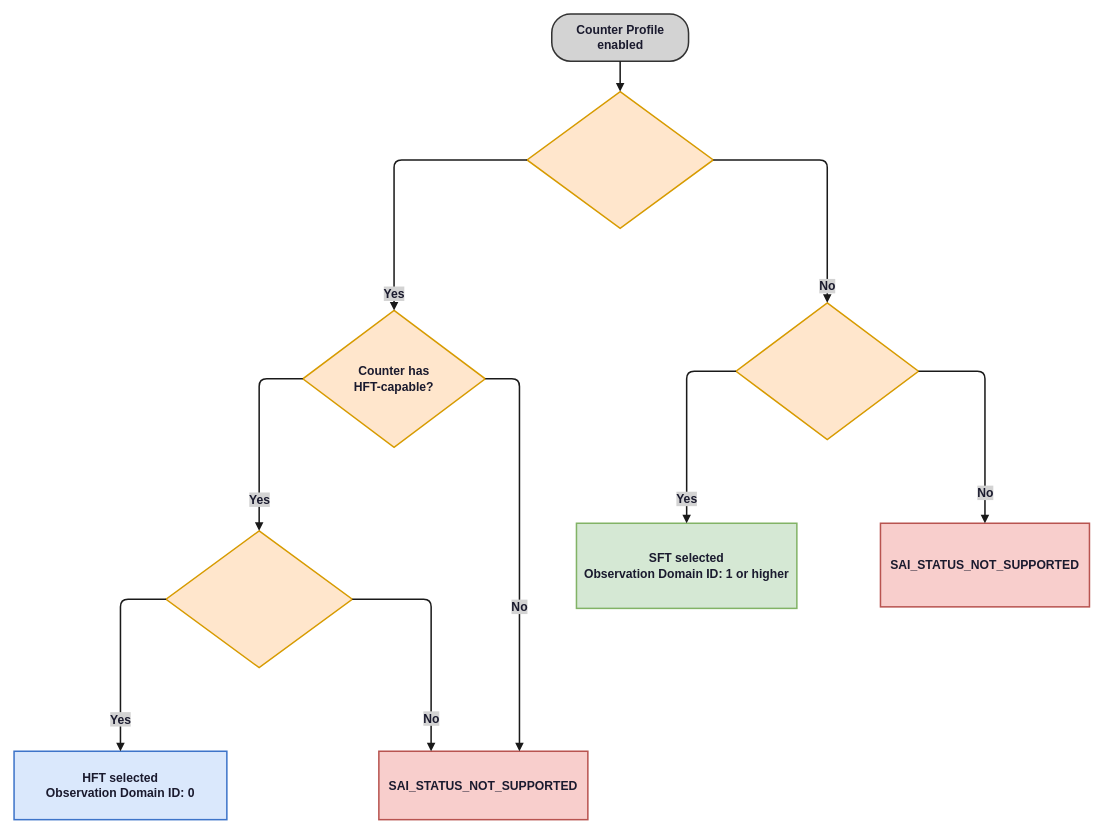
Some shapes in this 1103 by 833 pixel diagram are drawn without their labels. Each missing label, with the box of its shape:
Counter in READ mode?: (165, 530, 353, 668)
Counters supported by SDK API?: (735, 302, 919, 440)
poll_interval <= threshold: (526, 90, 714, 229)
